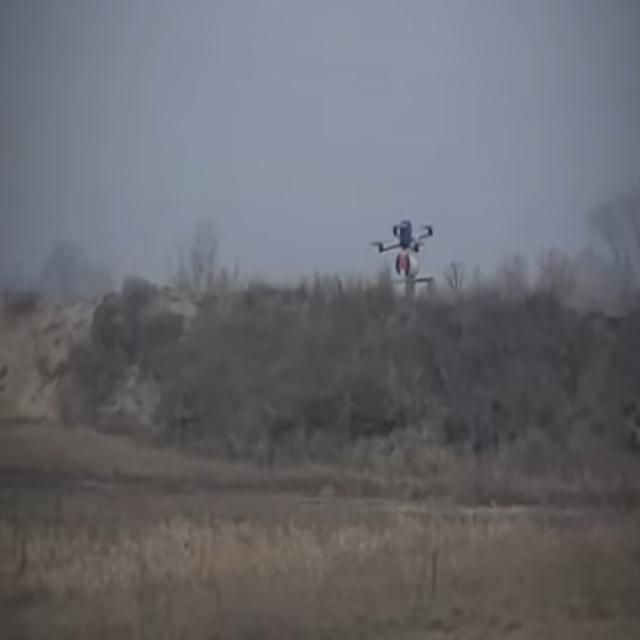drone: (373, 216, 437, 298)
